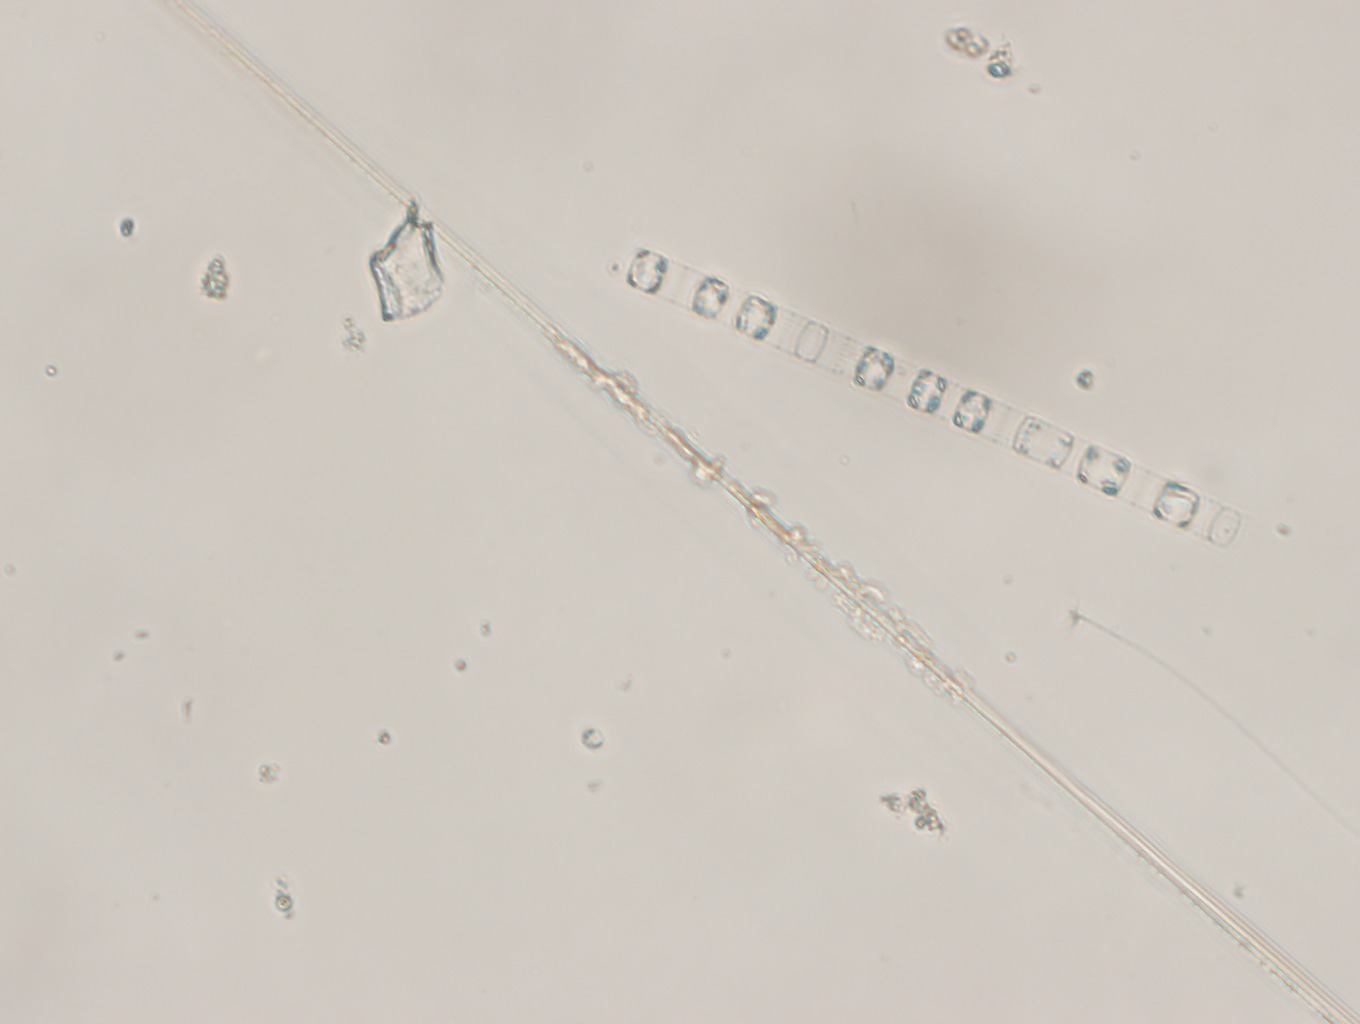skeletonema: (606, 224, 1252, 560)
